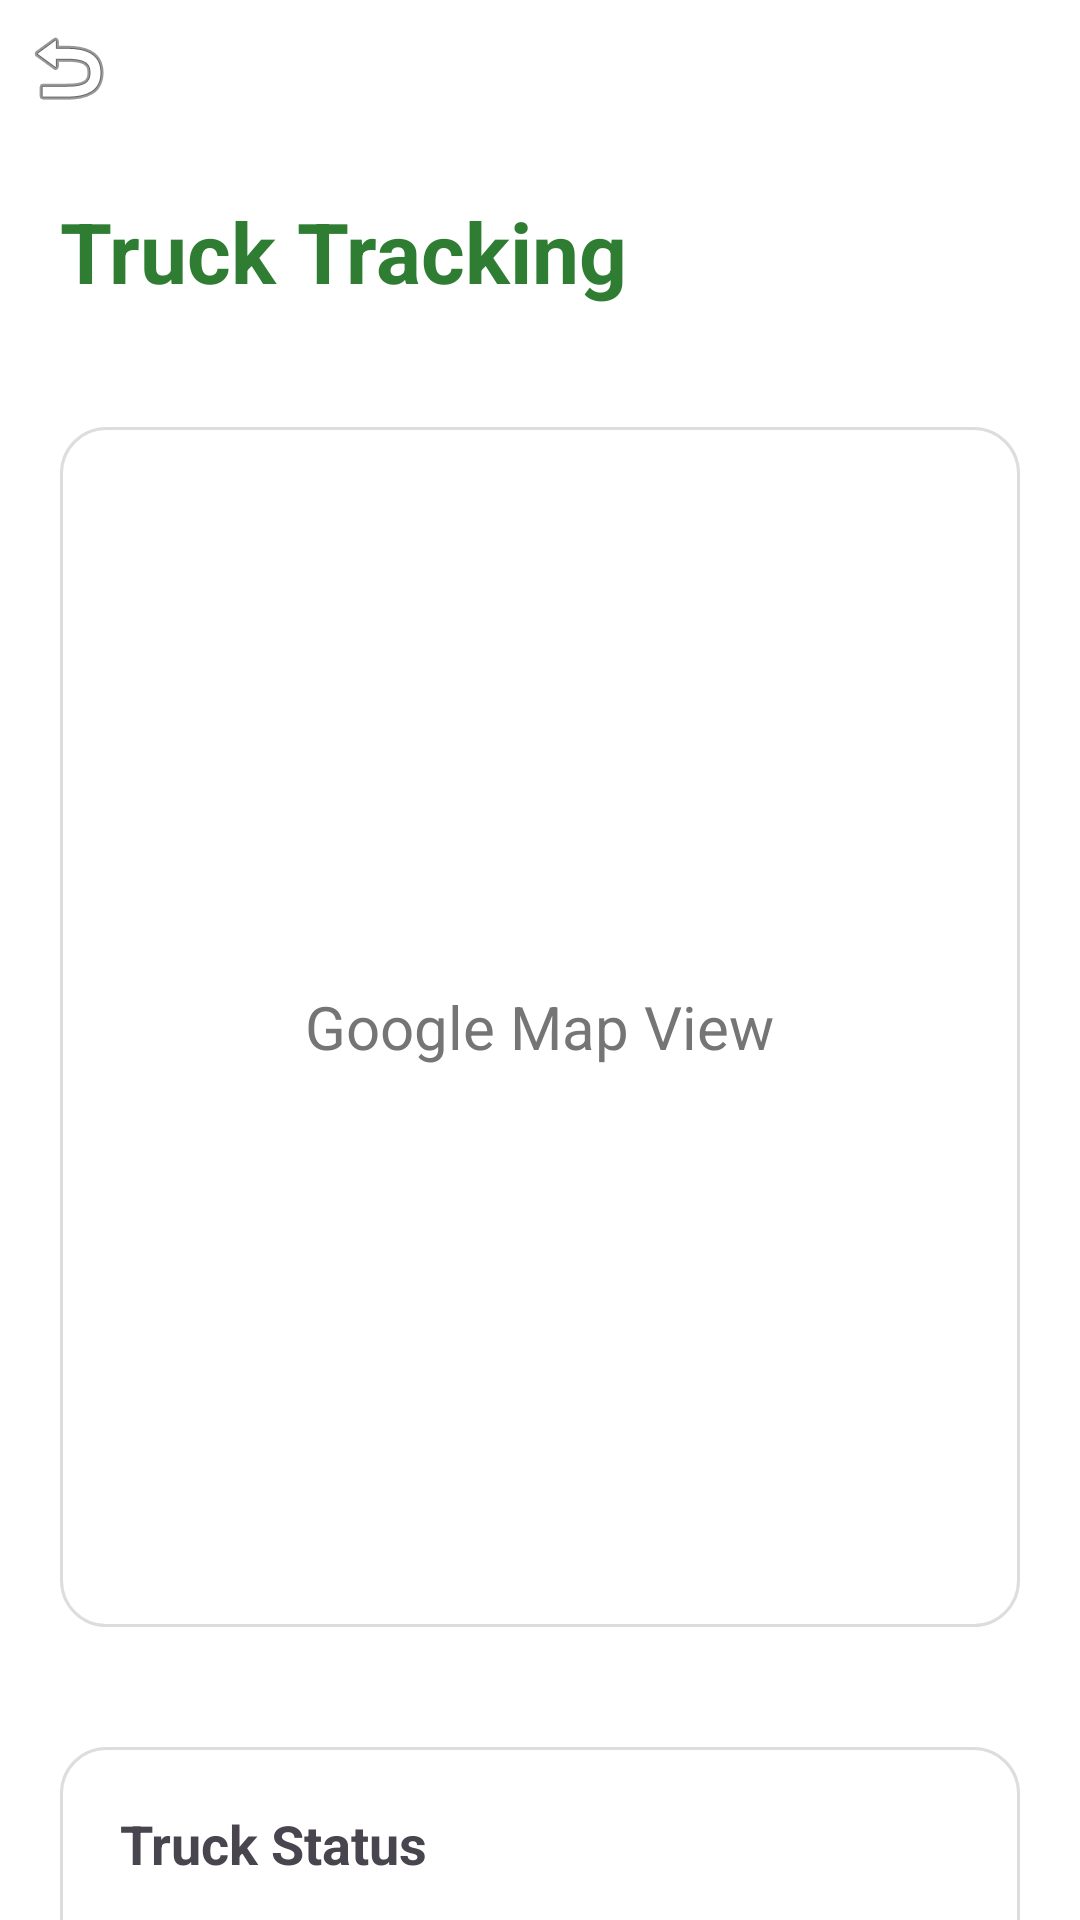

Where icons sit on this 1080px x 1920px app screen, as box(x1, y1, x2, y2):
Back: box(35, 37, 104, 100)
